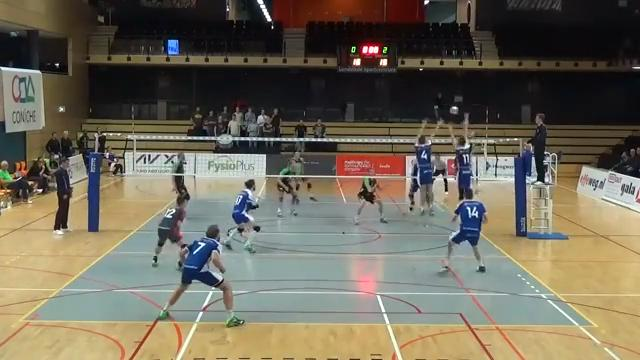Block: (408, 113, 445, 217), (446, 111, 473, 215)
Player: (158, 225, 244, 326), (441, 188, 487, 271), (224, 179, 259, 253), (152, 195, 186, 266), (354, 168, 386, 224), (290, 151, 316, 201), (276, 162, 297, 217), (173, 152, 189, 201), (408, 159, 419, 211)
ball: (448, 105, 460, 116)
